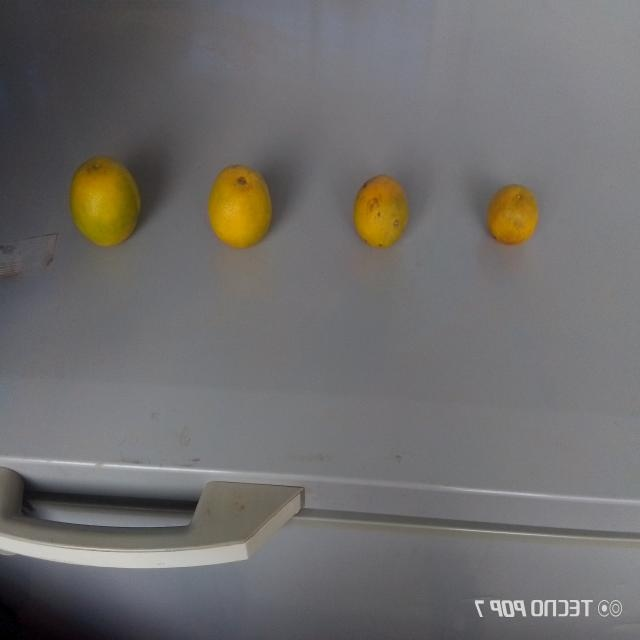agrume: (206, 157, 280, 259), (68, 152, 140, 248), (354, 166, 410, 250), (482, 179, 539, 249)
